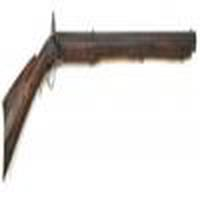gun: (3, 27, 197, 164)
